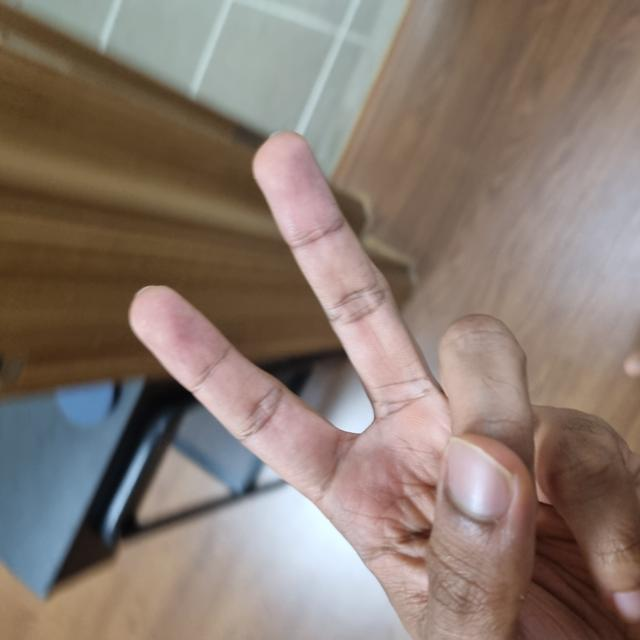Scissors: (0, 132, 506, 639)
